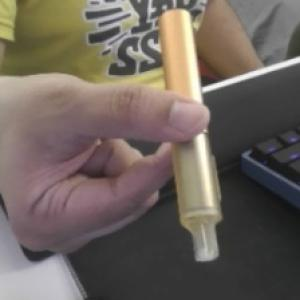Golden-E-Ciggirate: (158, 9, 222, 261)
